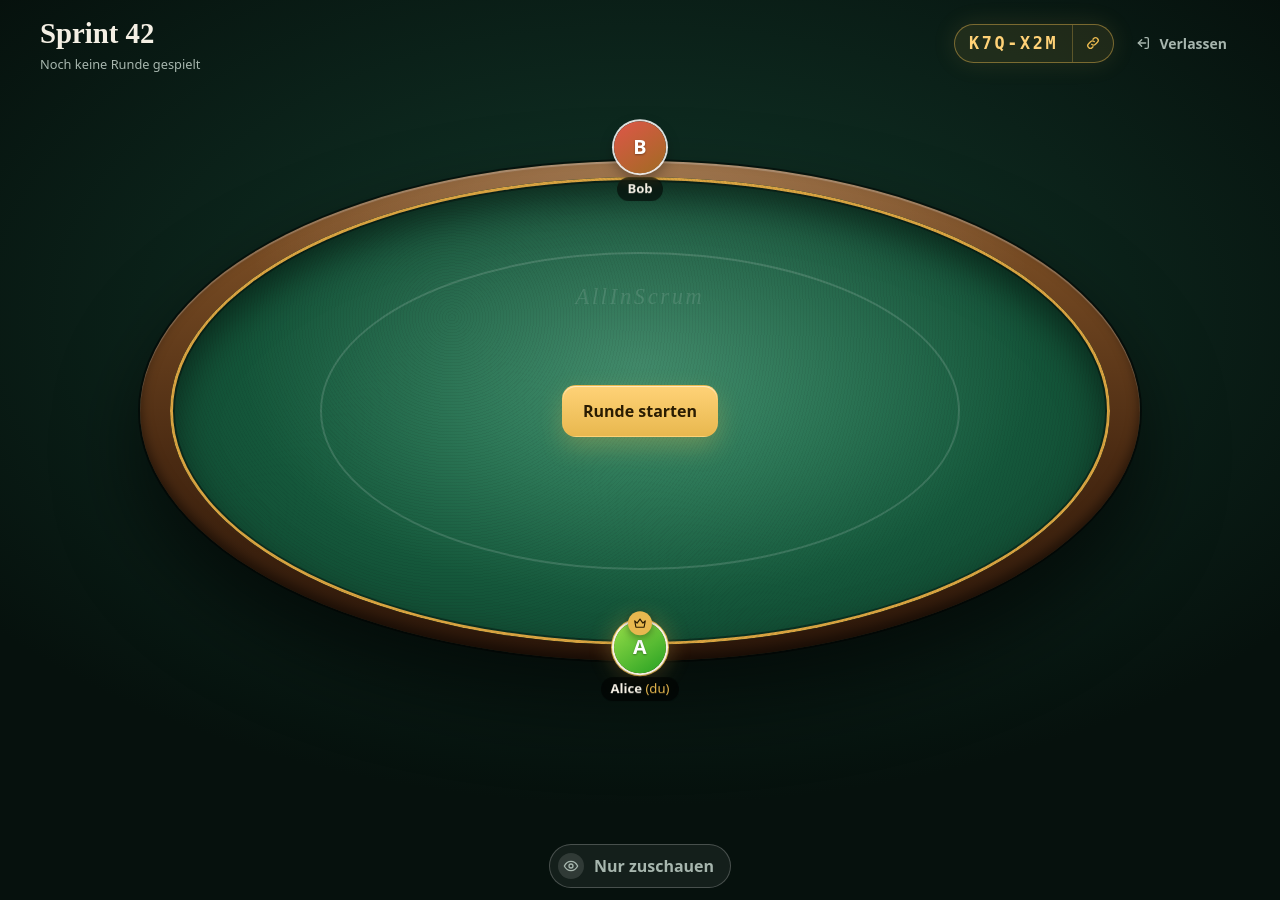
Test case: Pokertisch › vor der ersten Runde › zeigt verständlich an, wenn der Server einen Befehl ablehnt
Click the button "Runde starten": (640, 411) [562,385,718,437]
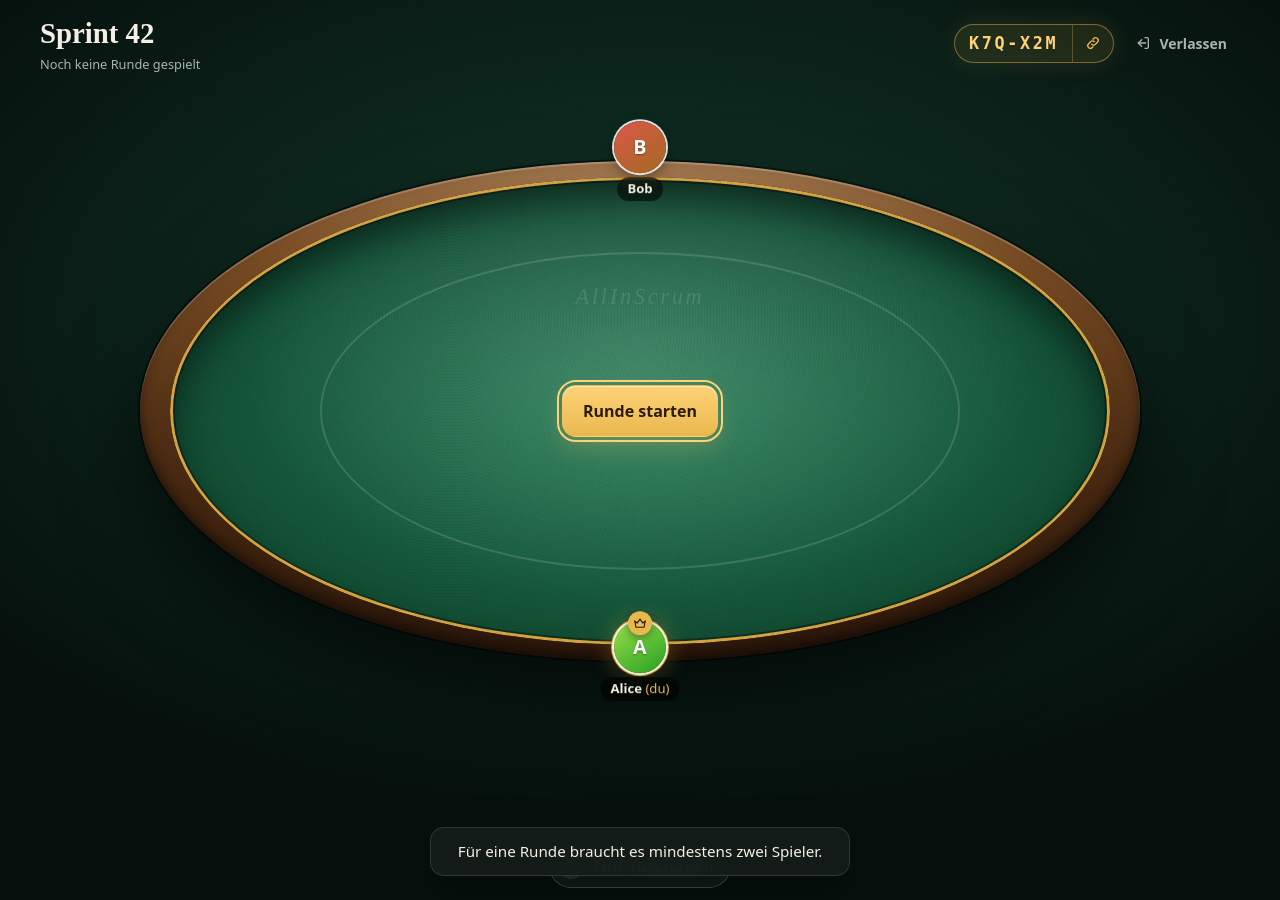
Now the text "Für eine Runde braucht es mindestens zwei Spieler." is shown, box [430,827,850,876]
